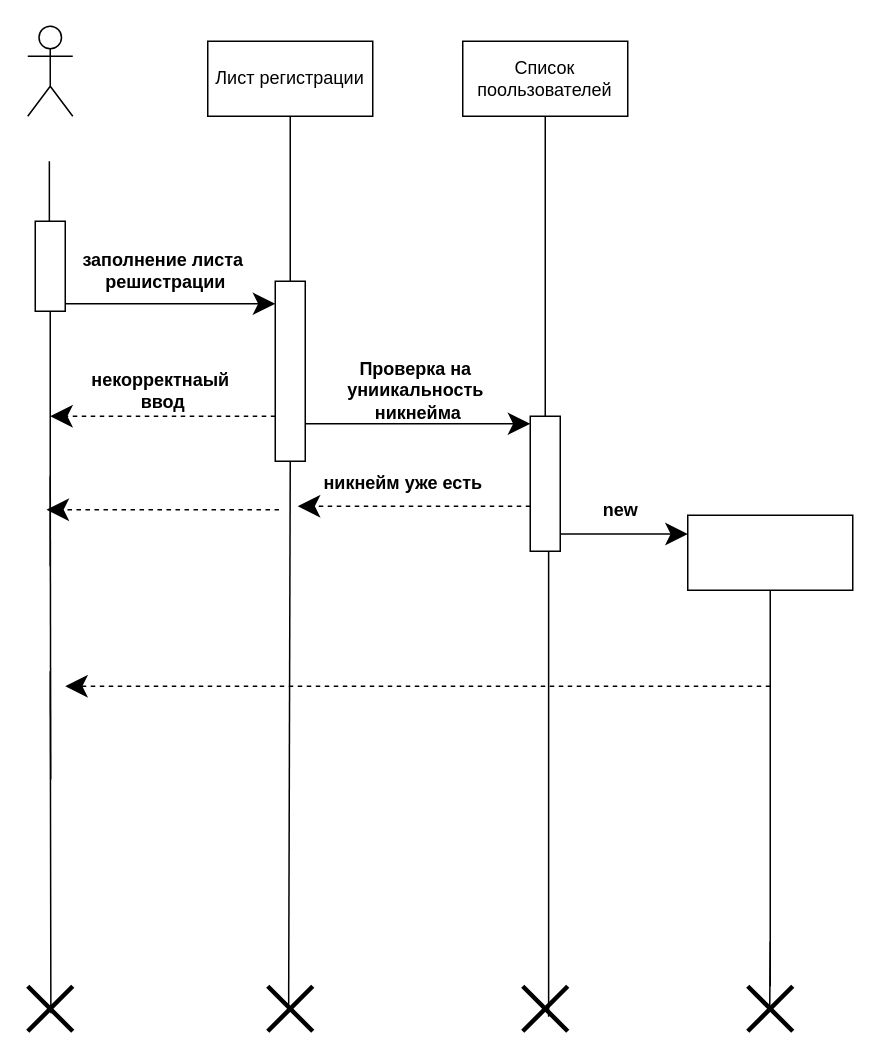
This 879x1059 diagram has some shape labels left out. The shapes that lost their labels are listed below. From the top down, each one's centre as x and y in pixels, then its label:
At pixel 49 70: "User".
At pixel 769 552: "Аккаунт".
